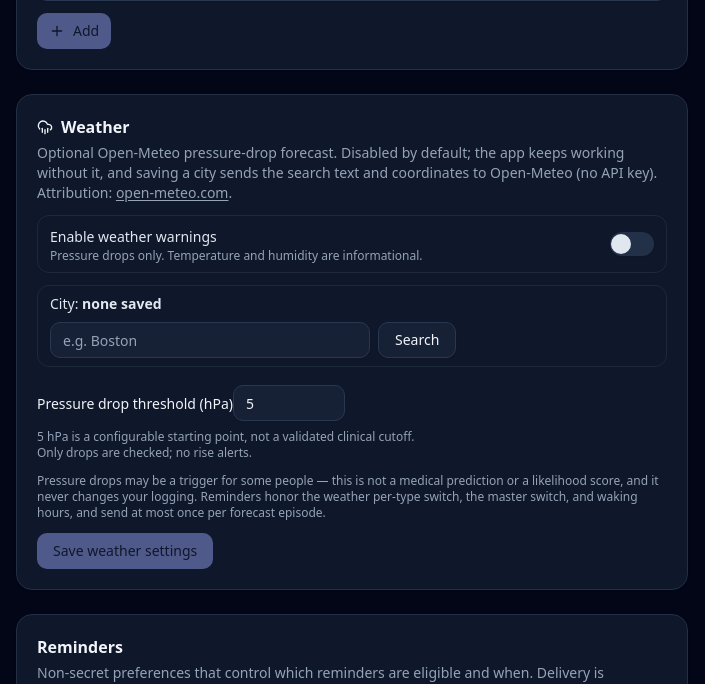
Test: Settings weather section › shows a calm inline error when city search is unavailable
This screenshot has width=705, height=684.
(page scrolled)
In the field named "Search for a city": (210, 340) x1=50 y1=322 x2=370 y2=358, type "Boston"
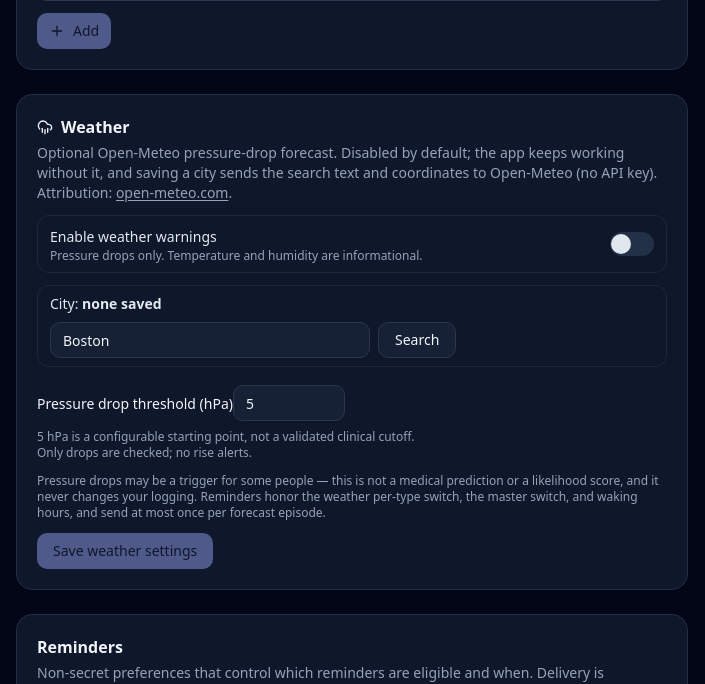
Click the button "Search": click(417, 340) x1=378 y1=322 x2=456 y2=358
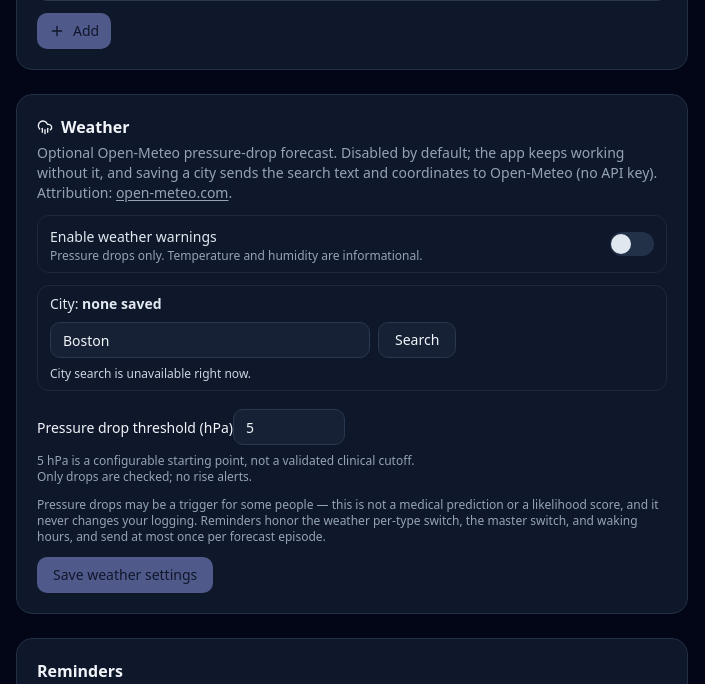
Expected: the text "City search is unavailable right now." is shown, x1=50 y1=365 x2=251 y2=382
